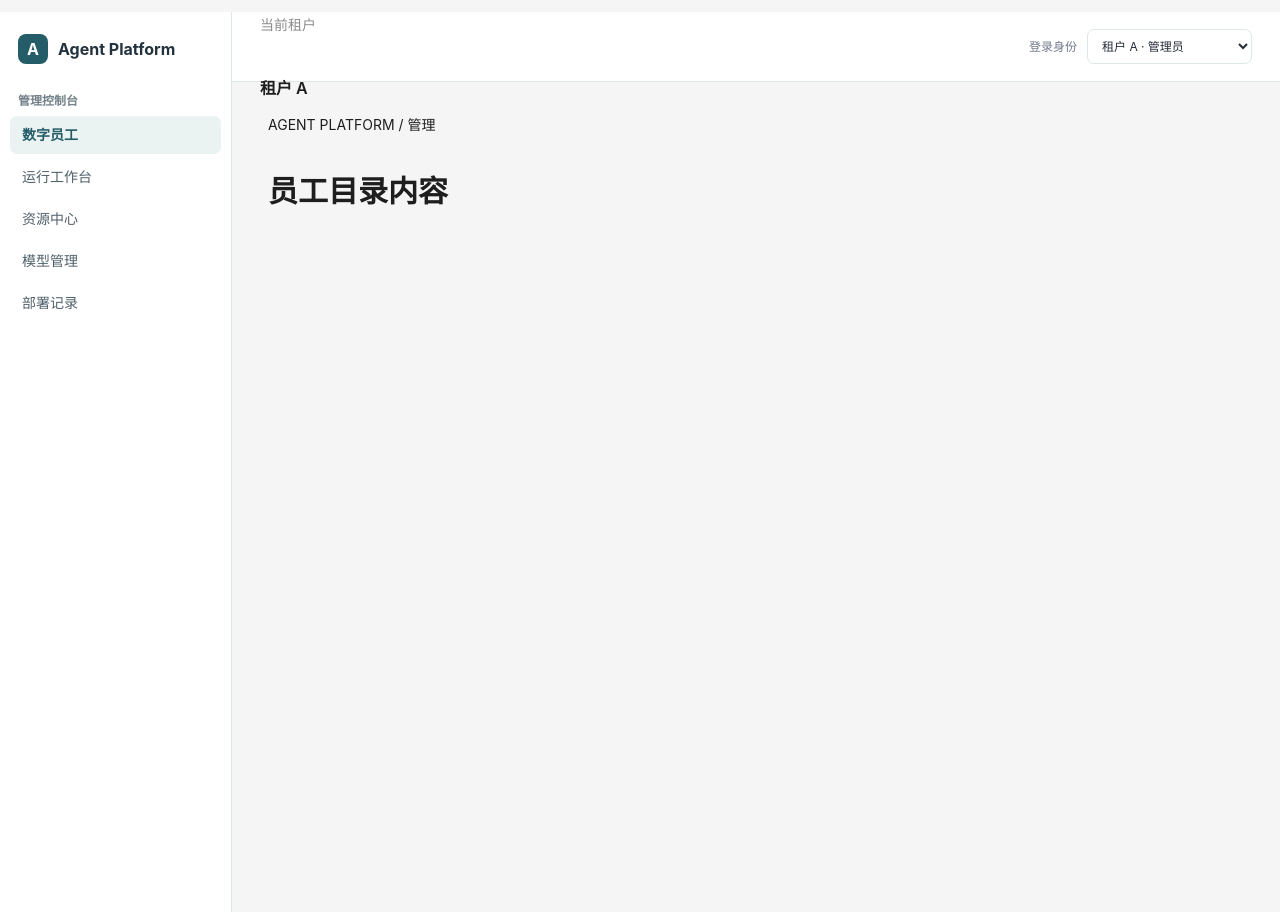
Test: management shell exposes three top-level areas and keeps skills under employee detail
The width and height of the screenshot is (1280, 912).
Expected: the heading "员工目录内容" is shown, left=268, top=173, right=448, bottom=209
Select "租户 B · 管理员" in the dropdown named "当前身份" at (1170, 46), box left=1087, top=29, right=1252, bottom=64
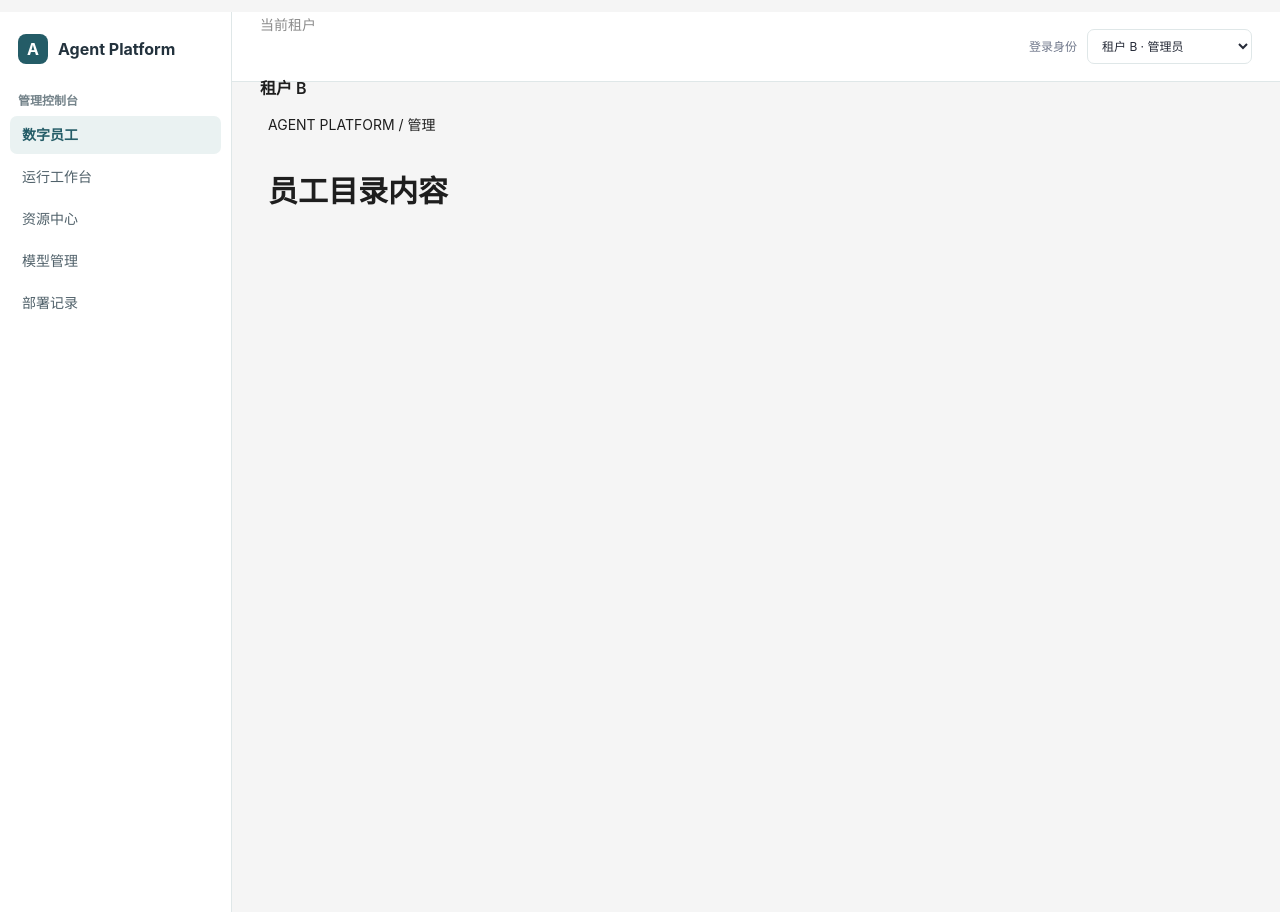
Now the heading "租户 B" is shown, box left=260, top=78, right=307, bottom=98
